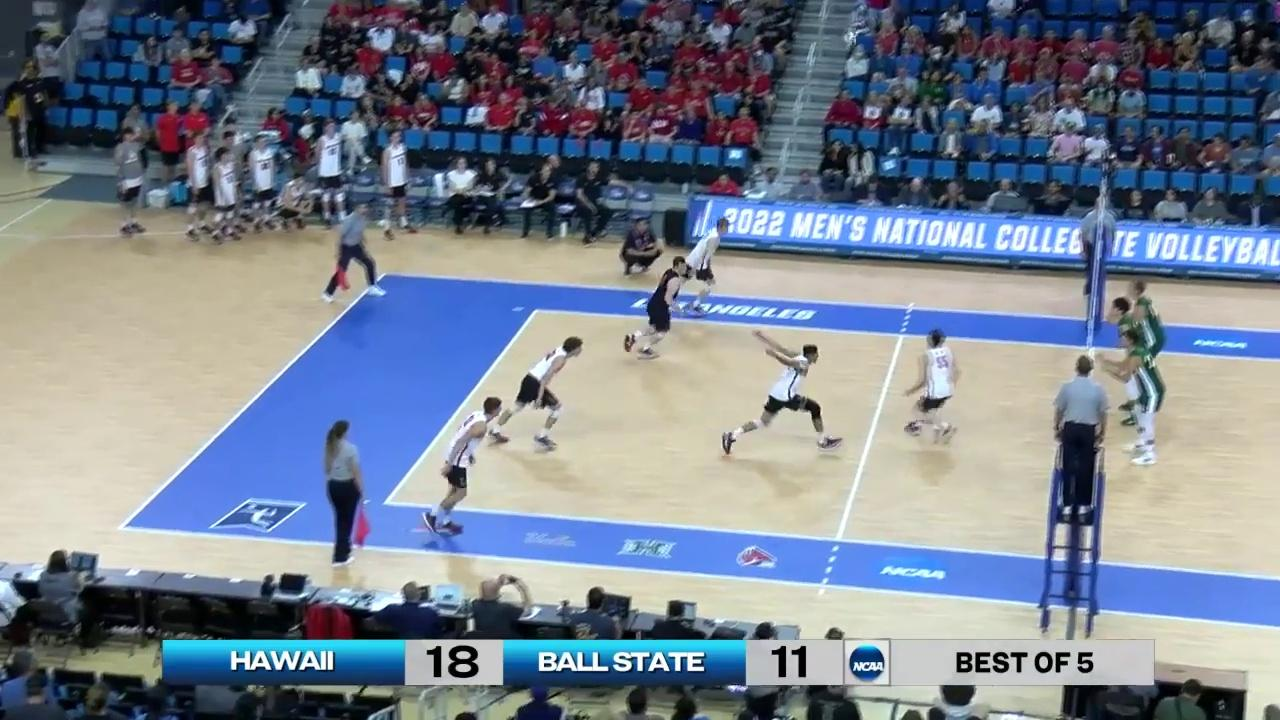player: (725, 342, 839, 453), (488, 338, 581, 455), (424, 393, 498, 540), (1115, 334, 1167, 466), (624, 258, 690, 361), (904, 329, 960, 441), (1114, 296, 1152, 428), (1126, 277, 1166, 399), (685, 215, 729, 311)
refree: (1052, 357, 1114, 521), (318, 421, 366, 561), (324, 200, 385, 298), (1082, 197, 1114, 306)
